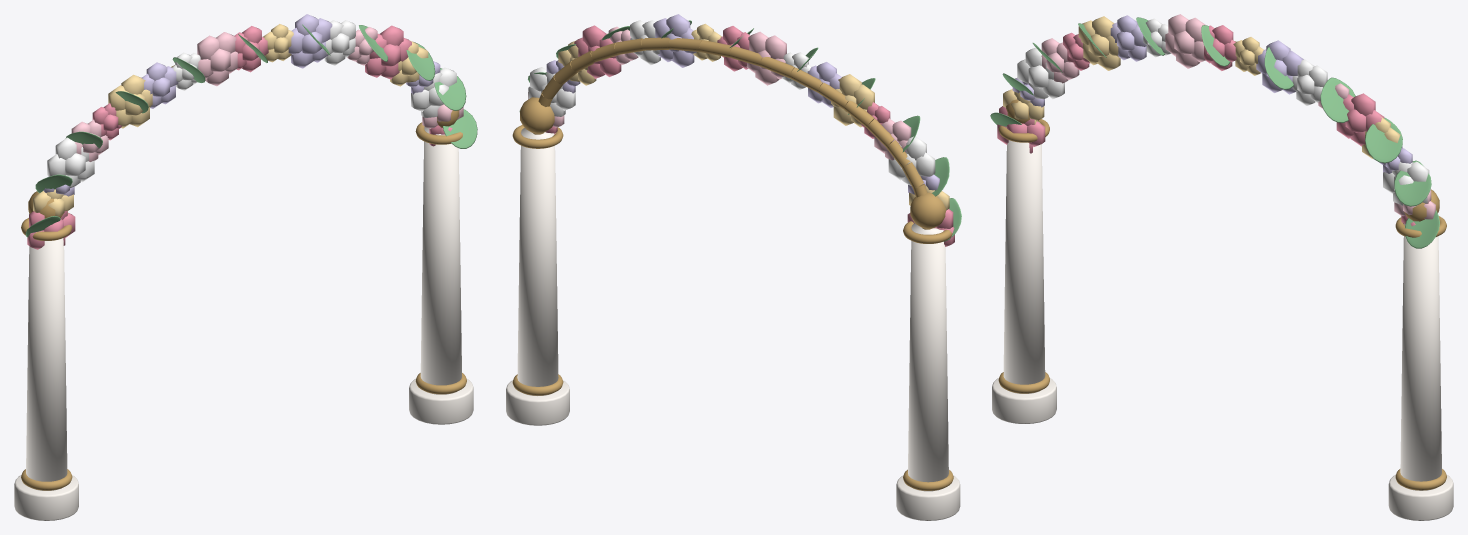
Rendered from plaza_gate.glb.
3 views of the same model, side by side, from view 1: azimuth 30°, elevation 25°; view 2: azimuth 150°, elevation 25°; view 3: azimuth 330°, elevation 25° (orthographic).
Parts seen in each view (by area): view 1: Cone; view 2: Cone; view 3: Cone.
Boxes of the visible parts, x1,y1,x2,y2 form: Cone: (14, 14, 477, 520); Cone: (506, 14, 961, 520); Cone: (990, 14, 1453, 520).
Bounding box in the file's own units: 5.48 × 5.07 × 0.701.
